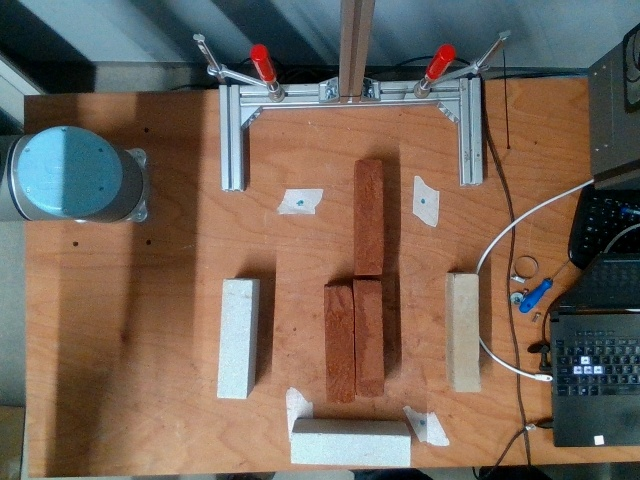brick-side: (218, 279, 252, 400), (294, 434, 411, 466), (355, 280, 384, 396), (325, 287, 352, 402), (357, 161, 382, 275), (455, 275, 479, 391)
